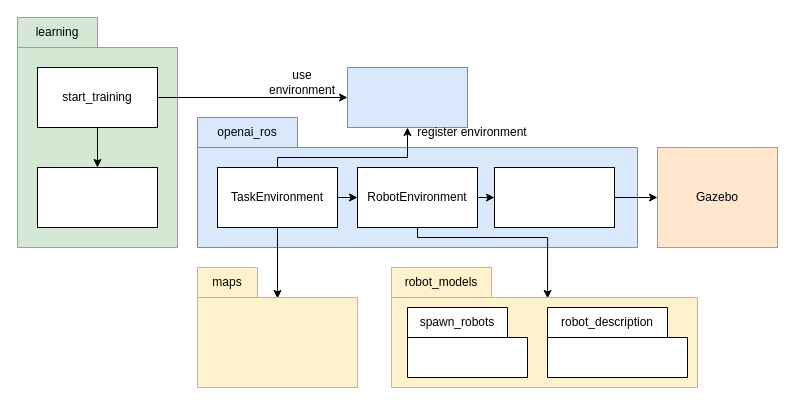
The diagram is 795 pixels wide and 405 high, and some of its shapes have lost their labels. The shapes that lost their labels are listed below. From the top down, each one's centre as x and y in pixels, then its label:
At pixel 407 97: "OpenaiGym".
At pixel 97 197: "learning algorithm".
At pixel 554 197: "GazeboEnvironment".
